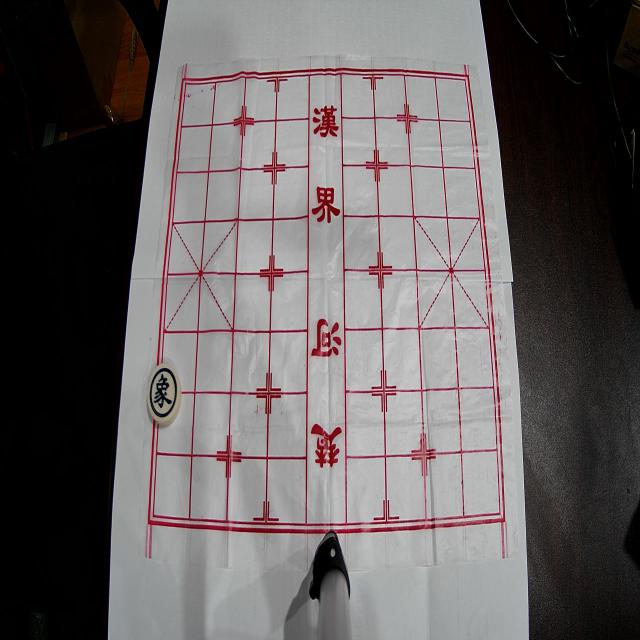black-elephant: (148, 362, 182, 426)
